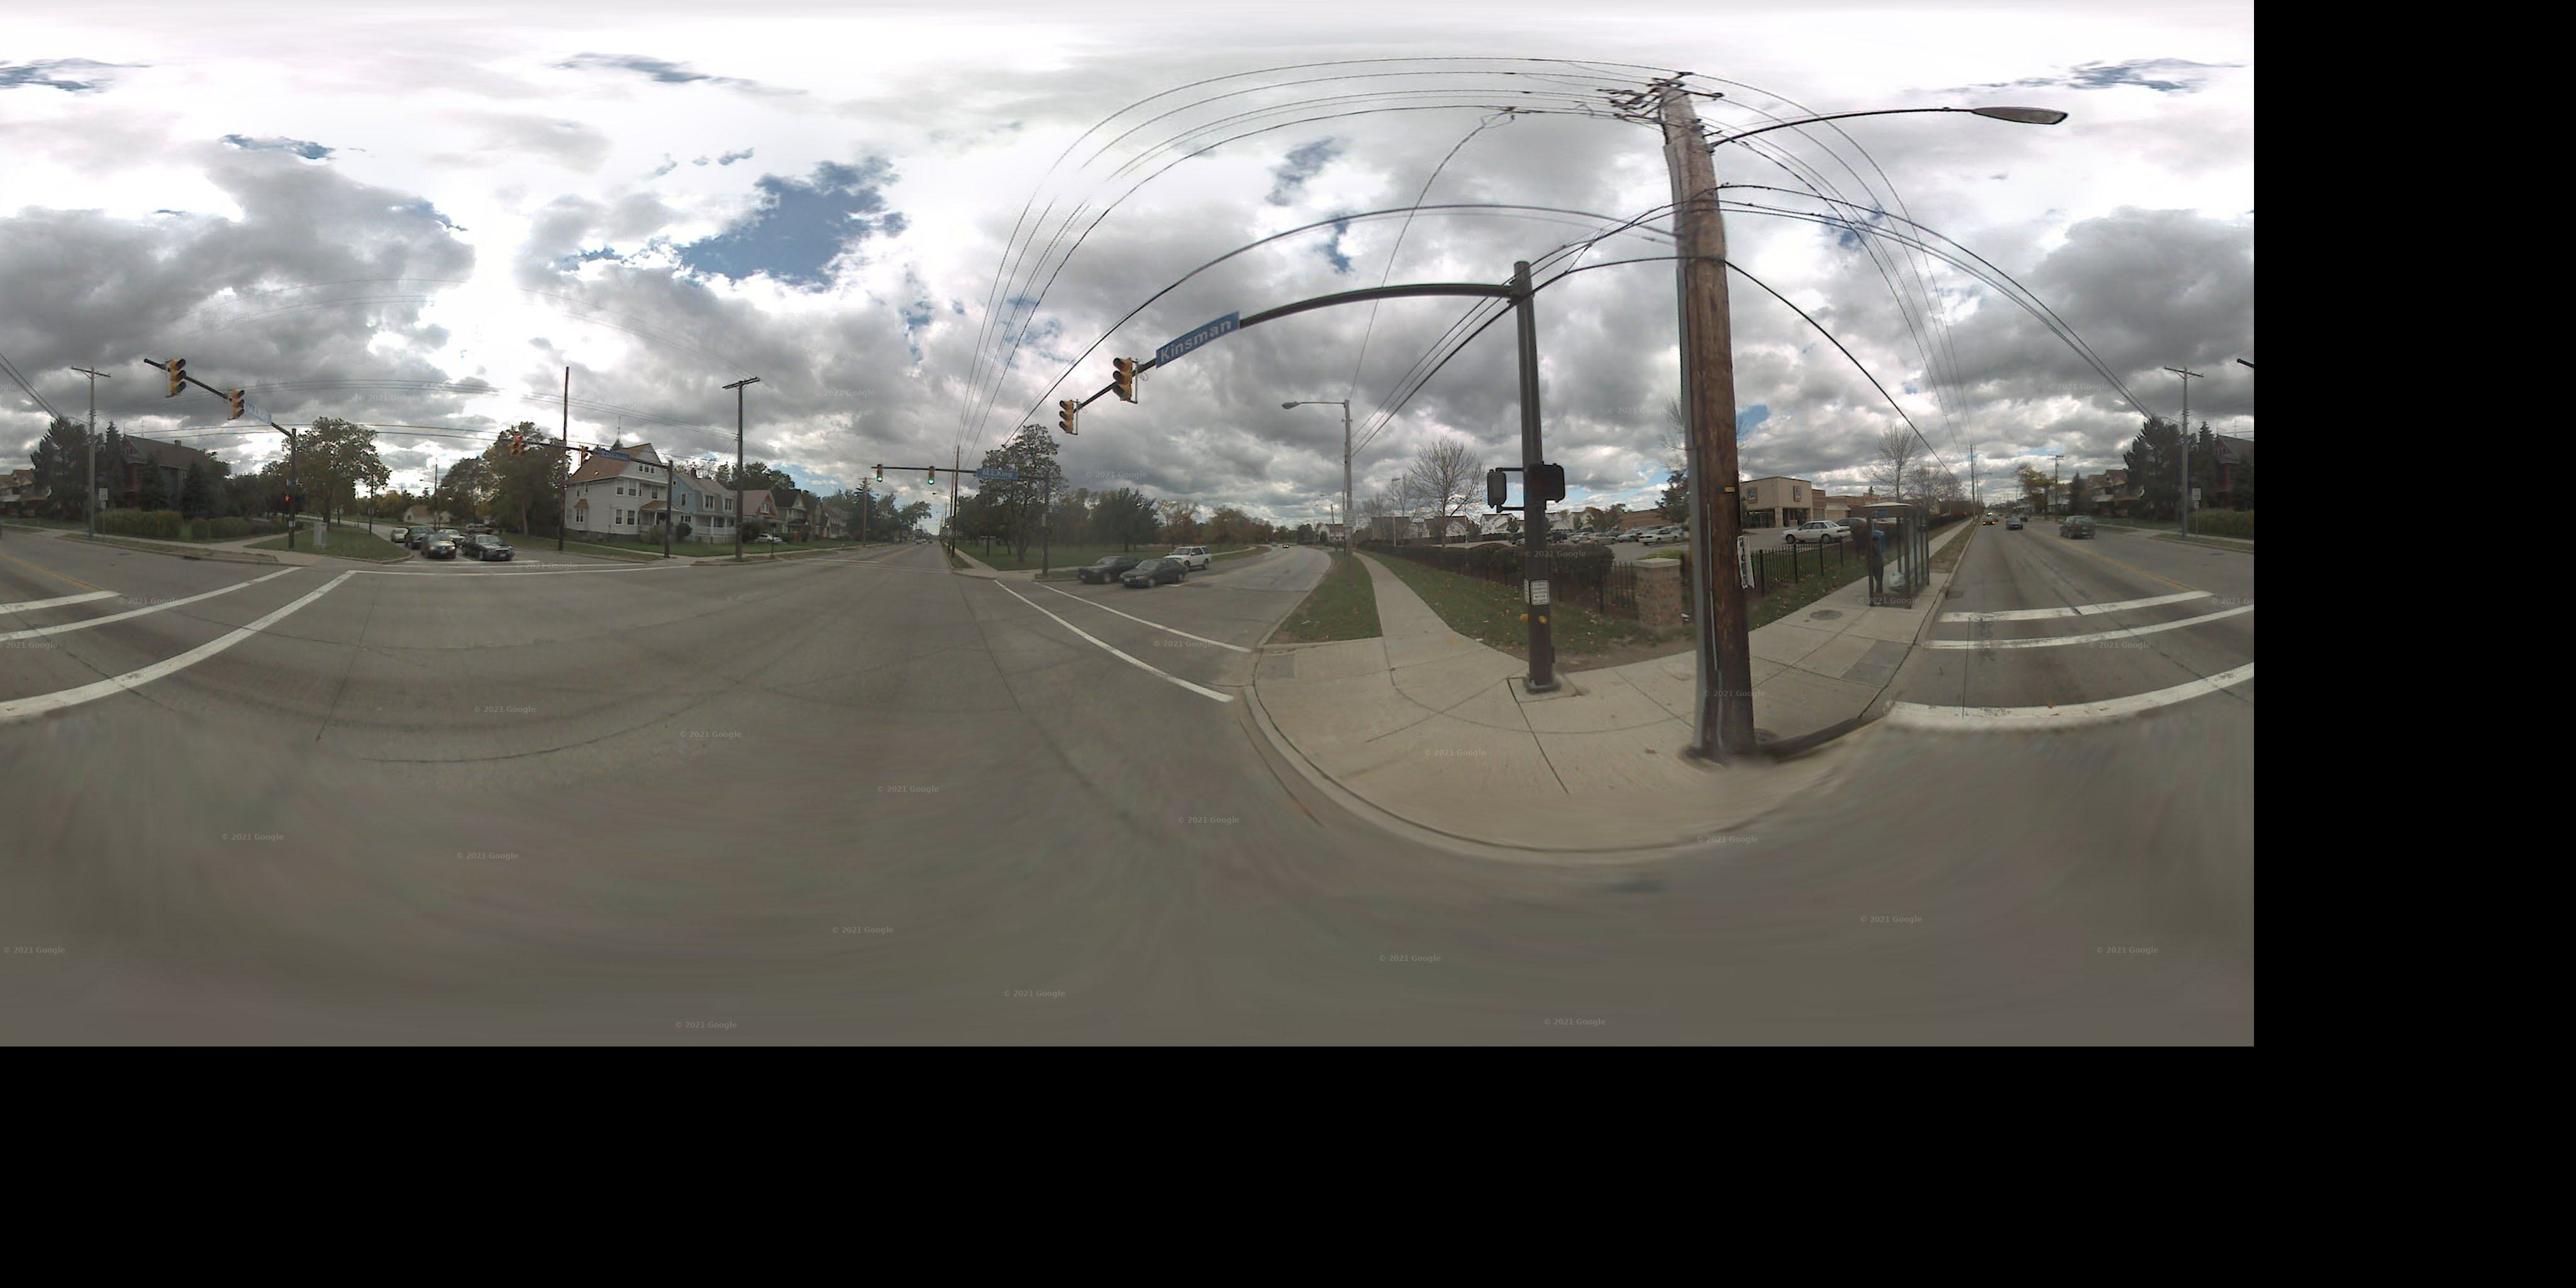Curb Ramp: (1833, 626, 1937, 724), (1229, 636, 1309, 705), (294, 547, 378, 578), (989, 567, 1037, 590), (649, 554, 692, 572), (945, 563, 964, 580)
